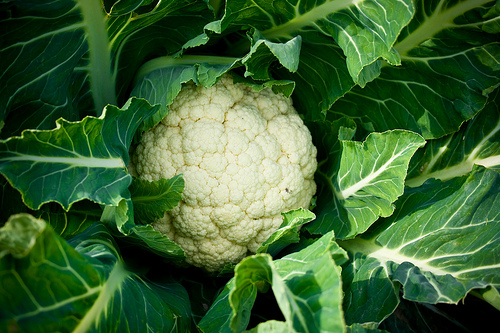cauliflower: (130, 78, 320, 269)
